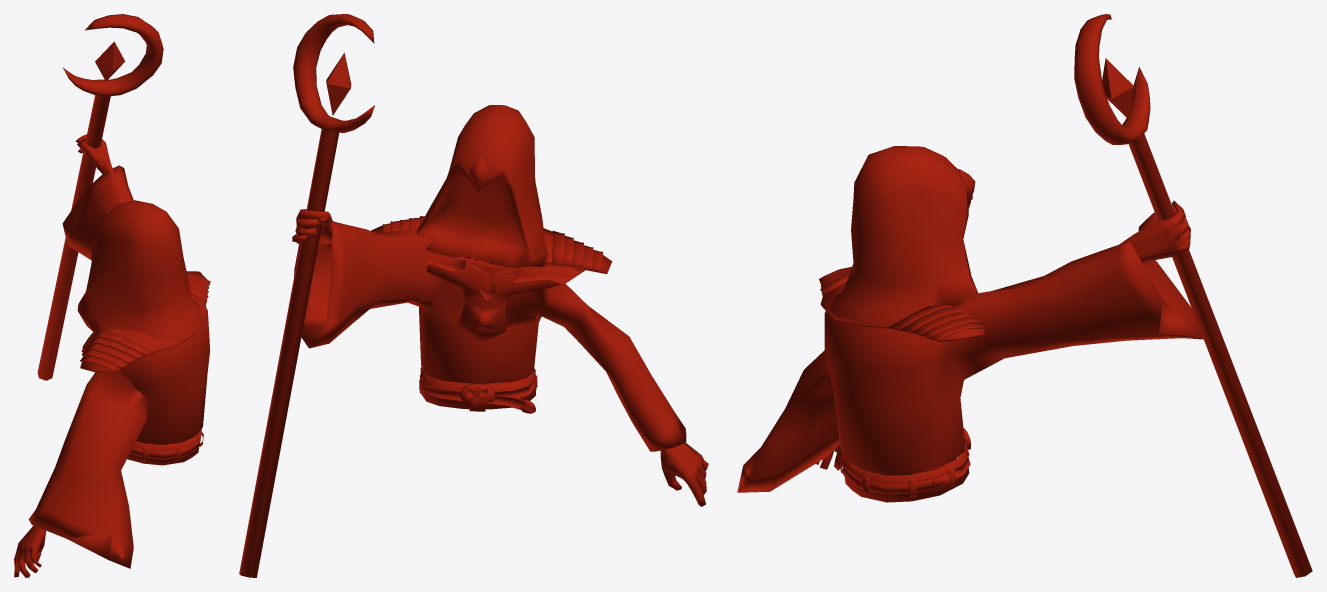
The model's file is top_000066.obj.
3 views of the same model, side by side, from view 1: azimuth 30°, elevation 25°; view 2: azimuth 150°, elevation 25°; view 3: azimuth 270°, elevation 25° (orthographic). The views are drawn at different scales.
Parts seen in each view (by area): view 1: LowPoly_Warlock.000_Plane.005; view 2: LowPoly_Warlock.000_Plane.005; view 3: LowPoly_Warlock.000_Plane.005.
Part boxes in pixels (bbox=[...]): LowPoly_Warlock.000_Plane.005: bbox=[14, 14, 210, 577]; LowPoly_Warlock.000_Plane.005: bbox=[239, 14, 708, 577]; LowPoly_Warlock.000_Plane.005: bbox=[737, 14, 1312, 577].
Size of the model in its own units: 1.11 by 1.89 by 1.71.
